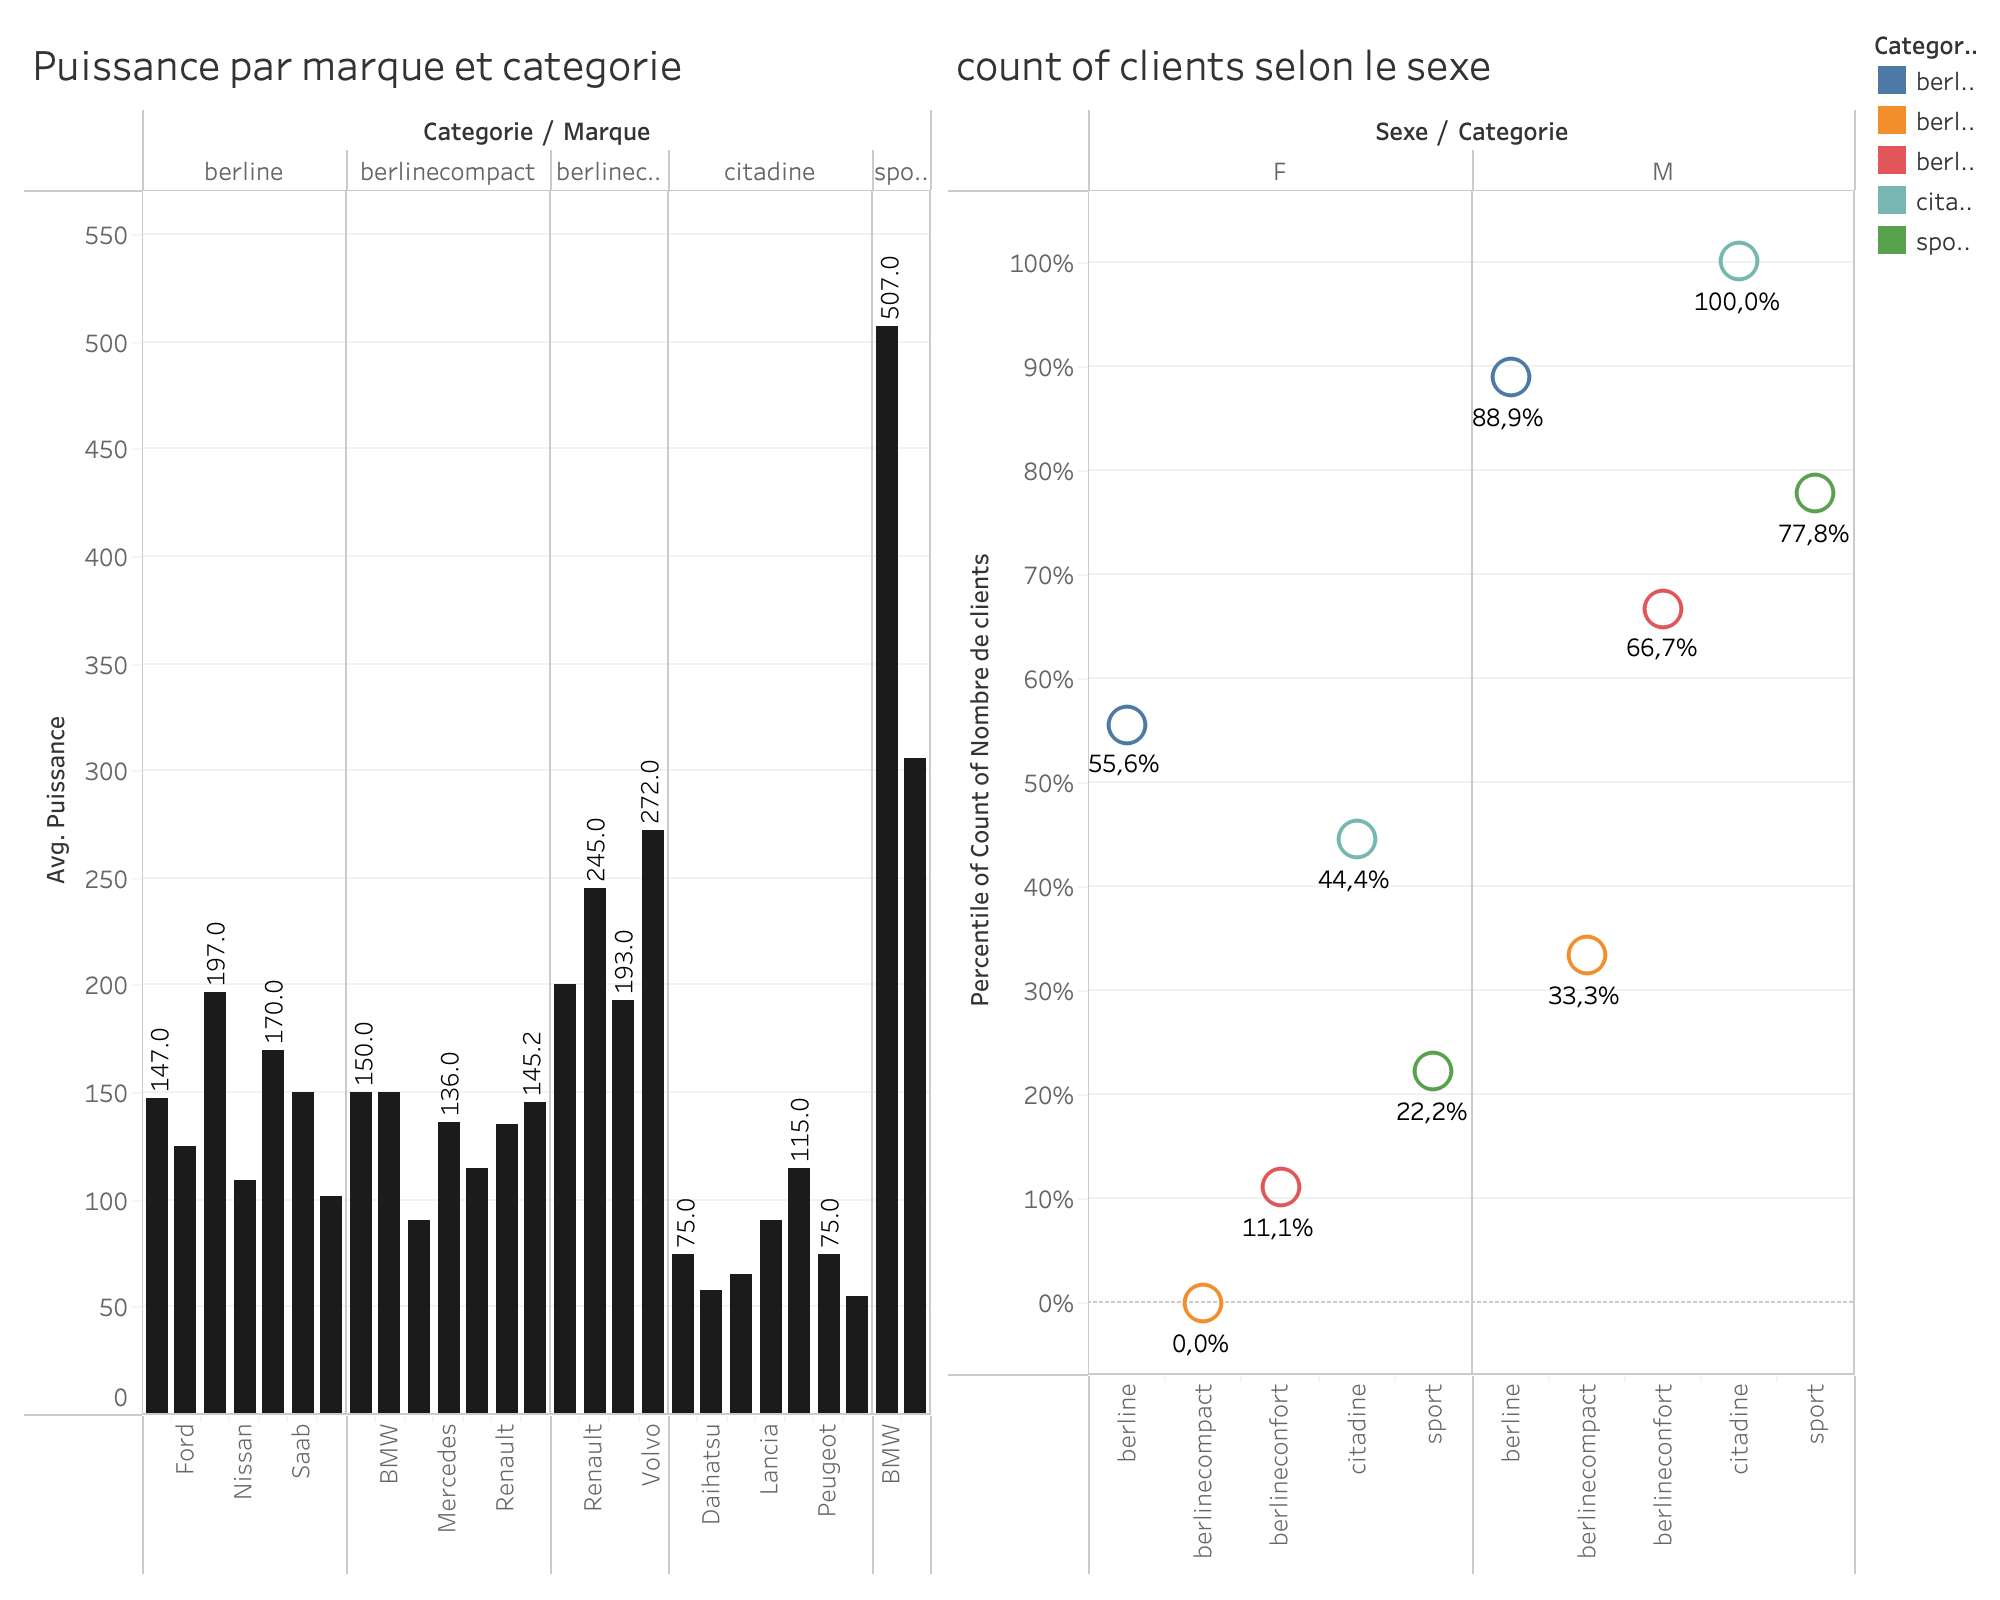

This screenshot's page, from the dashboard's own definition file:
{"tool":"tableau","page":{"name":"Dashboard 2","canvas":[1000,800],"ordinal":1},"visuals":[{"type":"worksheet","title":"Sheet 2","mark":"Automatic","rows":["puissance"],"cols":["categorie","marque"],"box":[8,8,462,784]},{"type":"worksheet","title":"Sheet 5","mark":"Shape","cols":["sexe","categorie"],"box":[470,8,462,784]},{"type":"legend","title":"Sheet 5","param":"[federated.0aaiyo01ql8xkg1gtdiag1d6dd12].[none:categorie:nk]","box":[932,8,60,126]}]}

Visuals, with their boxes in screenshot pixels (x1, y1, x2, y2), scaled from the page's 1000x800 canvas onto the 2000x1600 screenshot:
"Sheet 2" worksheet: (x1=16, y1=16, x2=940, y2=1584)
"Sheet 5" worksheet (Shape marks): (x1=940, y1=16, x2=1864, y2=1584)
"Sheet 5" legend: (x1=1864, y1=16, x2=1984, y2=268)
